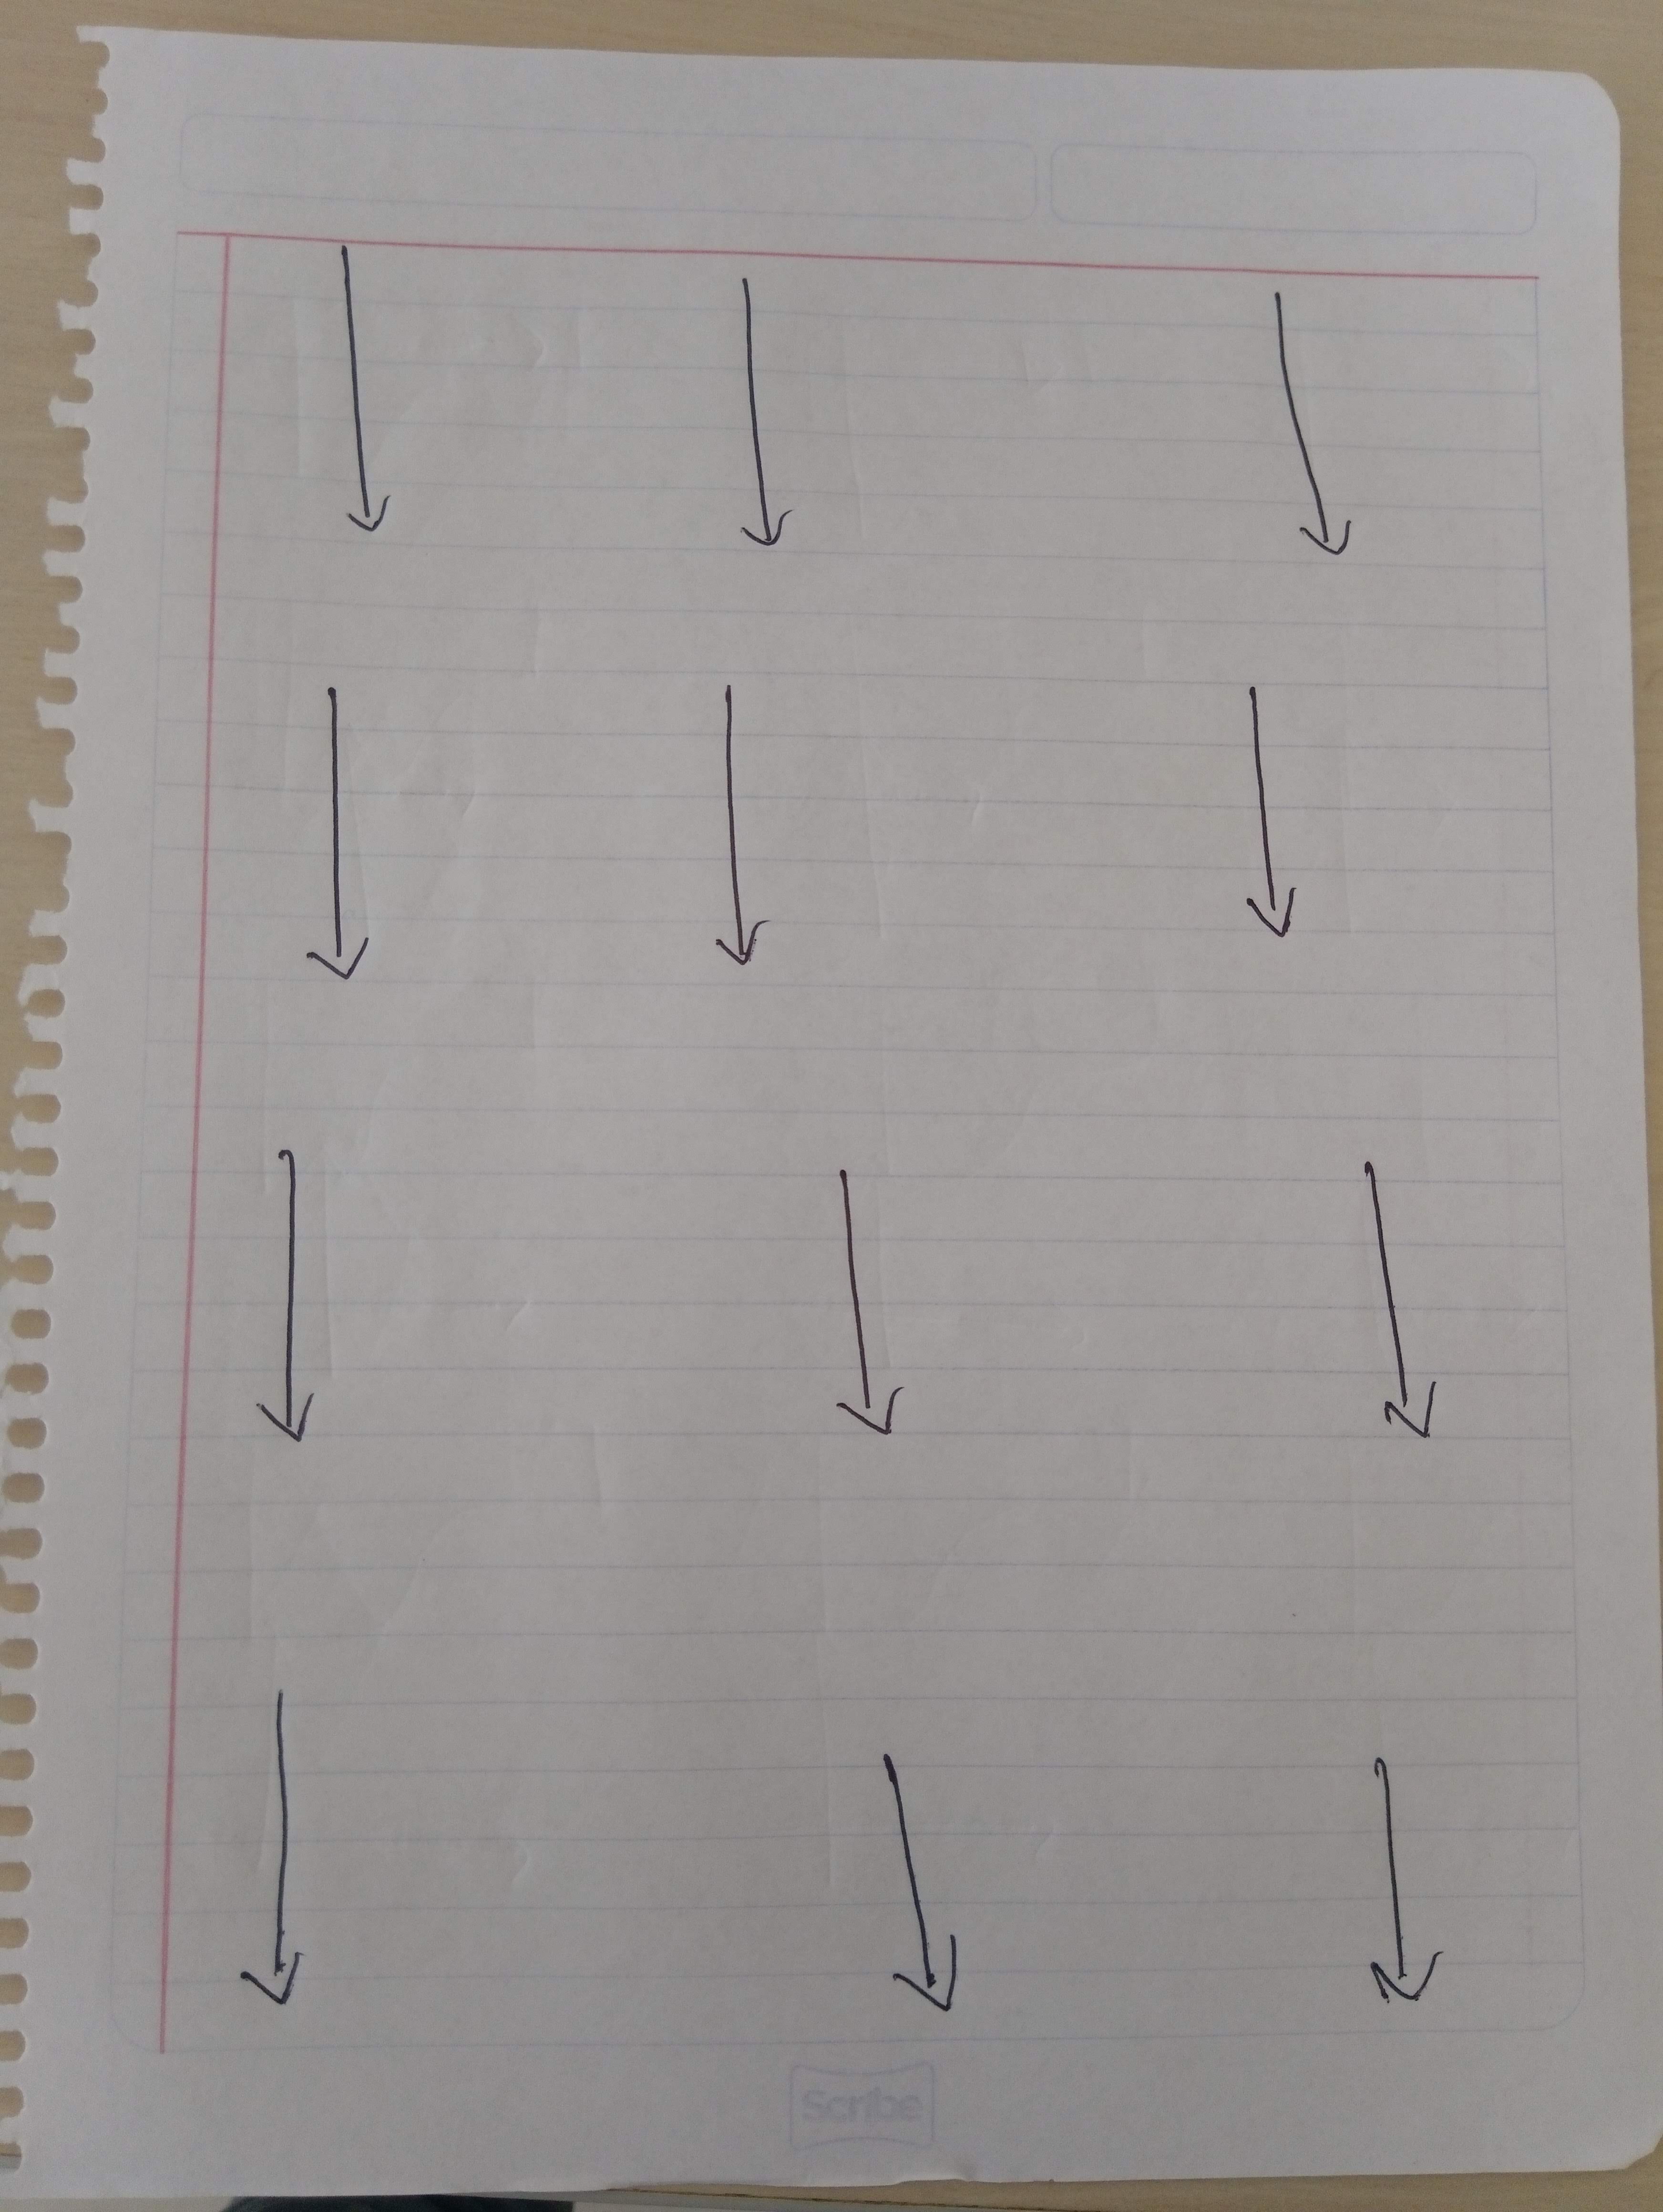arrow_line_down: (1204, 272, 1397, 571), (687, 262, 833, 559), (260, 665, 393, 985), (1328, 1131, 1453, 1435), (870, 1741, 994, 2027), (1218, 674, 1340, 951), (1347, 1734, 1460, 2027), (819, 1145, 928, 1440), (693, 674, 790, 974), (300, 225, 390, 545), (253, 1138, 342, 1458), (243, 1678, 316, 2018)
